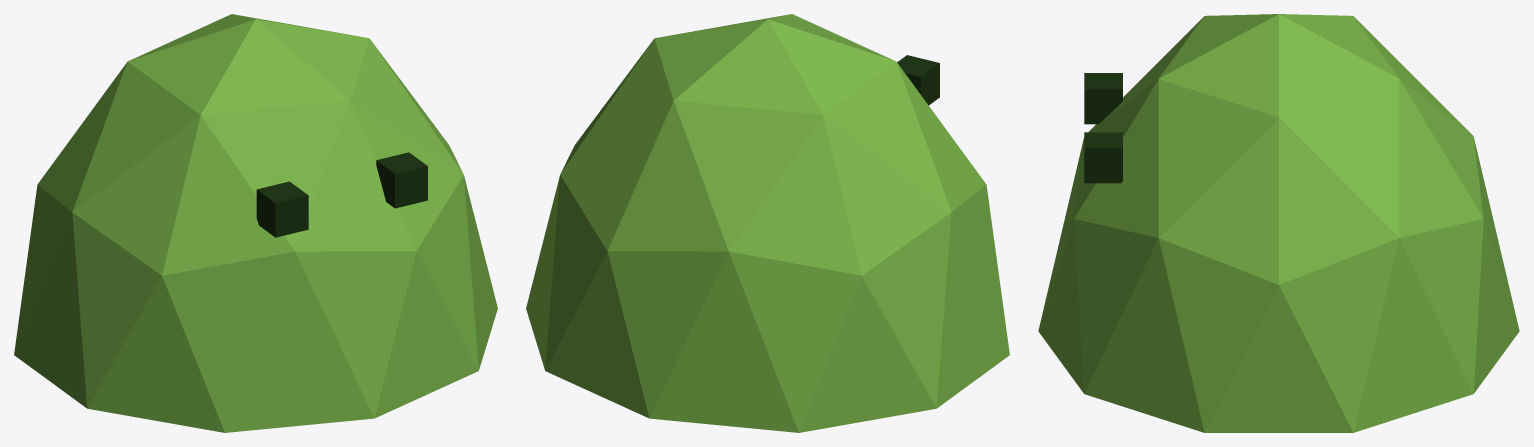
Rendered from slime.glb.
3 views of the same model, side by side, from view 1: azimuth 30°, elevation 25°; view 2: azimuth 150°, elevation 25°; view 3: azimuth 270°, elevation 25° (orthographic).
Visible parts, largest first — view 1: Slime_Body, Slime_Eye_1, Slime_Eye_2; view 2: Slime_Body, Slime_Eye_1; view 3: Slime_Body, Slime_Eye_2, Slime_Eye_1.
Boxes of the visible parts, box(x1,y1,x2,y2) form: Slime_Body: box(14, 14, 497, 432); Slime_Eye_1: box(256, 181, 308, 237); Slime_Eye_2: box(376, 152, 427, 208); Slime_Body: box(526, 14, 1009, 432); Slime_Eye_1: box(897, 55, 939, 105); Slime_Body: box(1038, 14, 1519, 432); Slime_Eye_2: box(1084, 132, 1122, 183); Slime_Eye_1: box(1084, 73, 1122, 124).
Size of the model in its own units: 1.38 by 1 by 1.38.
